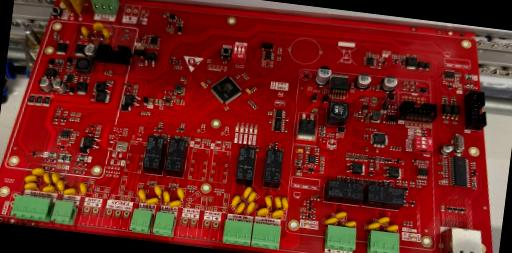var: (63, 0, 89, 17), (52, 0, 69, 11), (78, 25, 90, 40), (100, 27, 112, 42), (230, 194, 241, 208), (41, 184, 56, 194), (42, 172, 54, 184), (92, 21, 104, 33), (256, 206, 269, 217), (271, 208, 284, 219), (376, 215, 390, 225), (366, 220, 380, 230), (324, 216, 338, 226), (31, 166, 45, 176), (24, 174, 38, 184), (62, 186, 76, 196), (246, 200, 256, 214), (24, 180, 38, 190), (50, 172, 61, 184), (334, 210, 347, 220), (175, 187, 185, 200), (136, 188, 146, 201), (153, 184, 163, 197), (246, 190, 256, 203), (56, 179, 66, 192), (280, 197, 290, 210), (168, 198, 181, 208), (235, 201, 245, 214), (384, 223, 398, 232), (145, 196, 159, 205), (242, 186, 252, 198), (272, 196, 282, 208), (78, 182, 87, 195), (342, 219, 356, 227), (162, 190, 170, 203), (264, 195, 272, 207)
